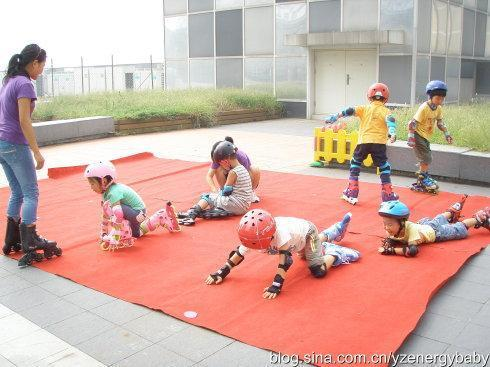Fall-Detected: (176, 135, 254, 225)
